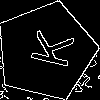K: (21, 26, 75, 70)
